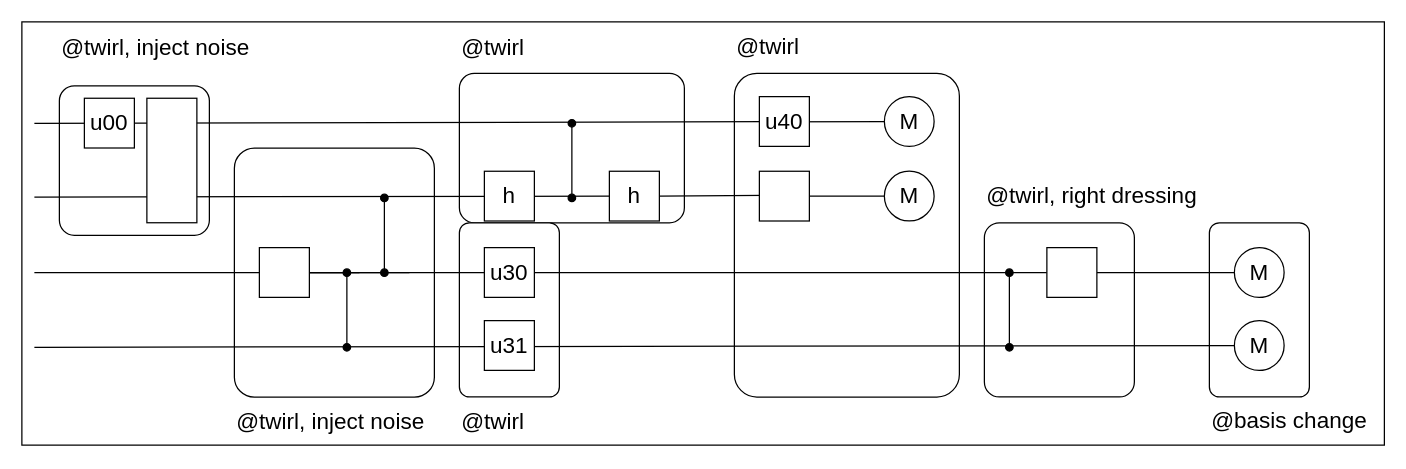
The diagram is 1406 pixels wide and 469 high, and some of its shapes have lost their labels. Here are the shapes that lost their labels. From the top down, the box of each, then its label:
(146, 97, 197, 223): ecr
(758, 170, 809, 221): u41
(258, 246, 309, 297): u10
(1046, 246, 1097, 297): u50
